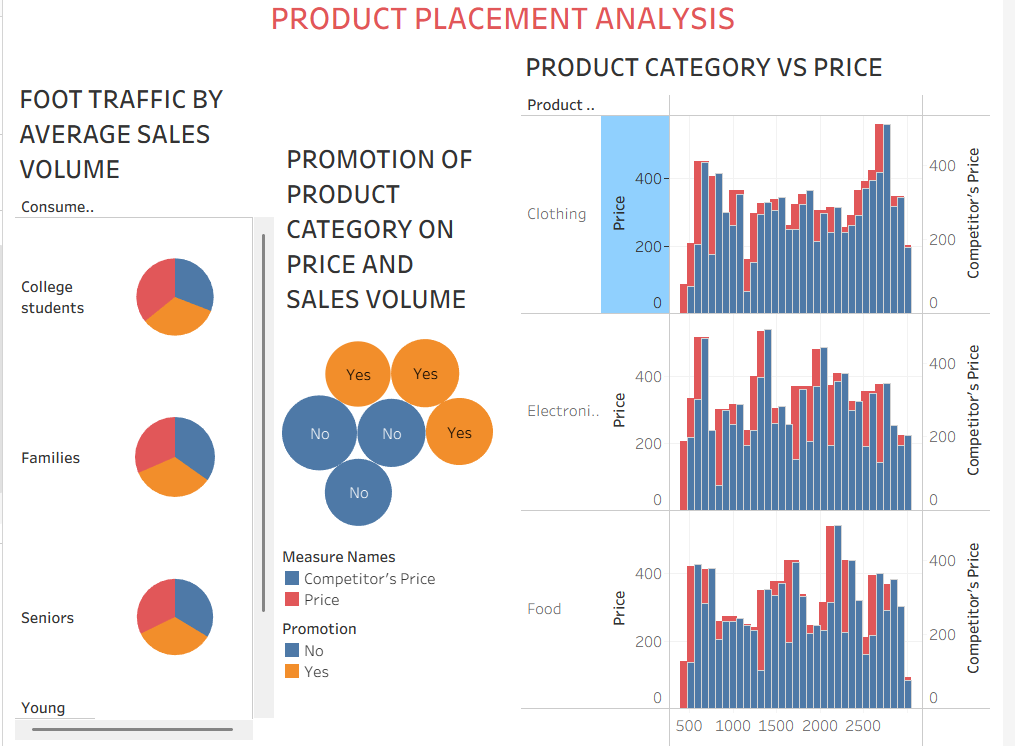

This screenshot's page, from the dashboard's own definition file:
{"tool":"tableau","page":{"name":"Dashboard 2","canvas":[1000,800],"ordinal":1},"visuals":[{"type":"title","box":[8,8,984,49]},{"type":"blank","box":[8,57,267,32]},{"type":"blank","box":[275,57,239,92]},{"type":"worksheet","title":"Sheet 7","mark":"Automatic","rows":["Product Category","Price","Competitor's Price"],"cols":["Sales Volume (bin)"],"box":[514,57,478,735]},{"type":"worksheet","title":"Sheet 6","mark":"Pie","rows":["Consumer Demographics"],"box":[8,89,267,671]},{"type":"worksheet","title":"Sheet 8","mark":"Circle","box":[275,149,239,409]},{"type":"legend","title":"Sheet 7","param":"[federated.0yuu6w100nce2b19fpfhh1dss6m6].[:Measure Names]","box":[275,558,239,72]},{"type":"legend","title":"Sheet 8","param":"[federated.0yuu6w100nce2b19fpfhh1dss6m6].[none:Promotion:nk]","box":[275,630,239,72]},{"type":"blank","box":[8,760,267,32]}]}

Visuals, with their boxes on the page's 1000x800 design canvas (x1, y1, x2, y2). These are canvas units, not pixel positions in the 1015x746 screenshot, which may show the page scaled, cropped or inside an application window:
title: locate(8, 8, 992, 57)
blank: locate(8, 57, 275, 89)
blank: locate(275, 57, 514, 149)
"Sheet 7" worksheet: locate(514, 57, 992, 792)
"Sheet 6" worksheet (Pie marks): locate(8, 89, 275, 760)
"Sheet 8" worksheet (Circle marks): locate(275, 149, 514, 558)
"Sheet 7" legend: locate(275, 558, 514, 630)
"Sheet 8" legend: locate(275, 630, 514, 702)
blank: locate(8, 760, 275, 792)
